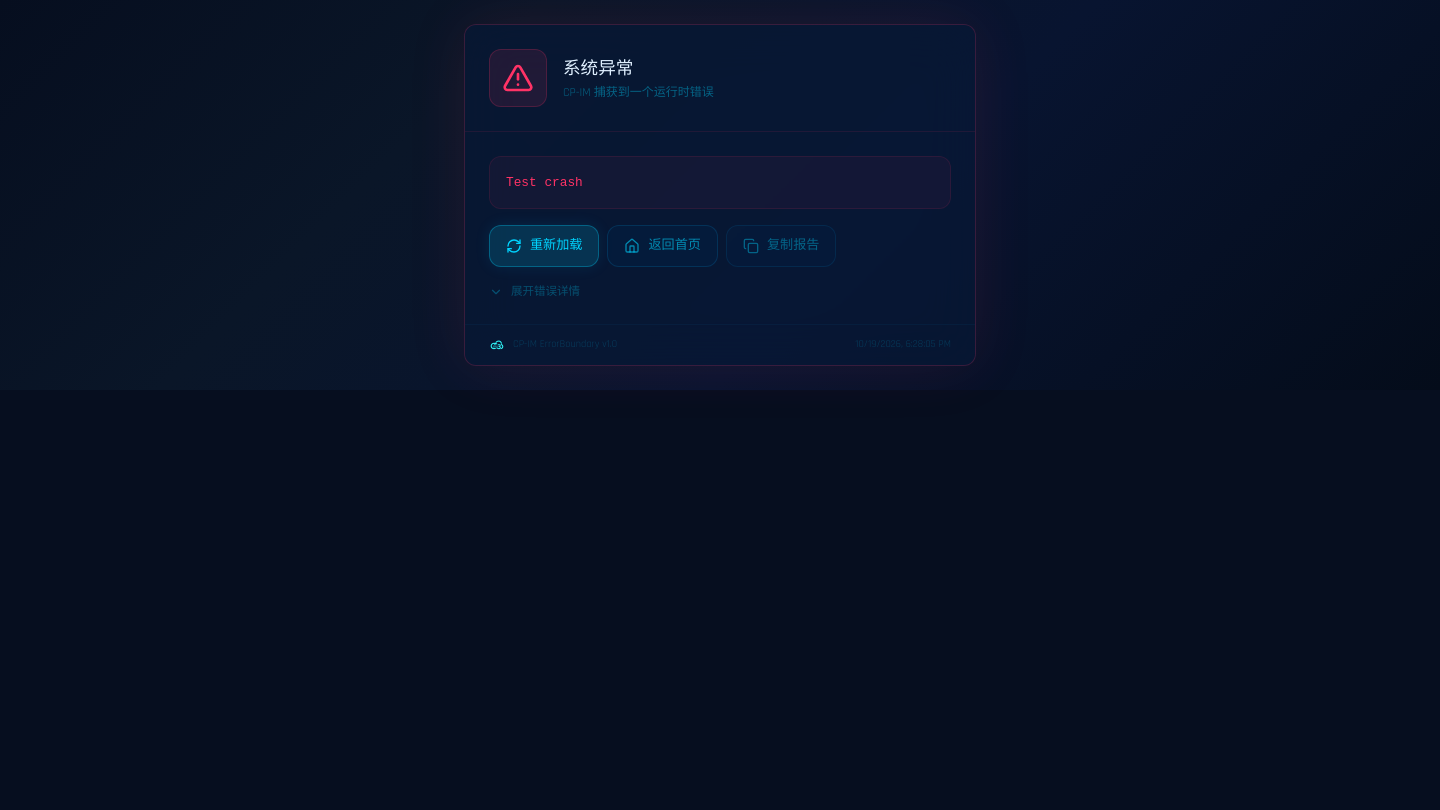
Test: ErrorBoundary › Page 级别 (默认) › 点击展开应显示堆栈信息
Click the button "展开错误详情" at (535, 292), box left=489, top=283, right=580, bottom=300
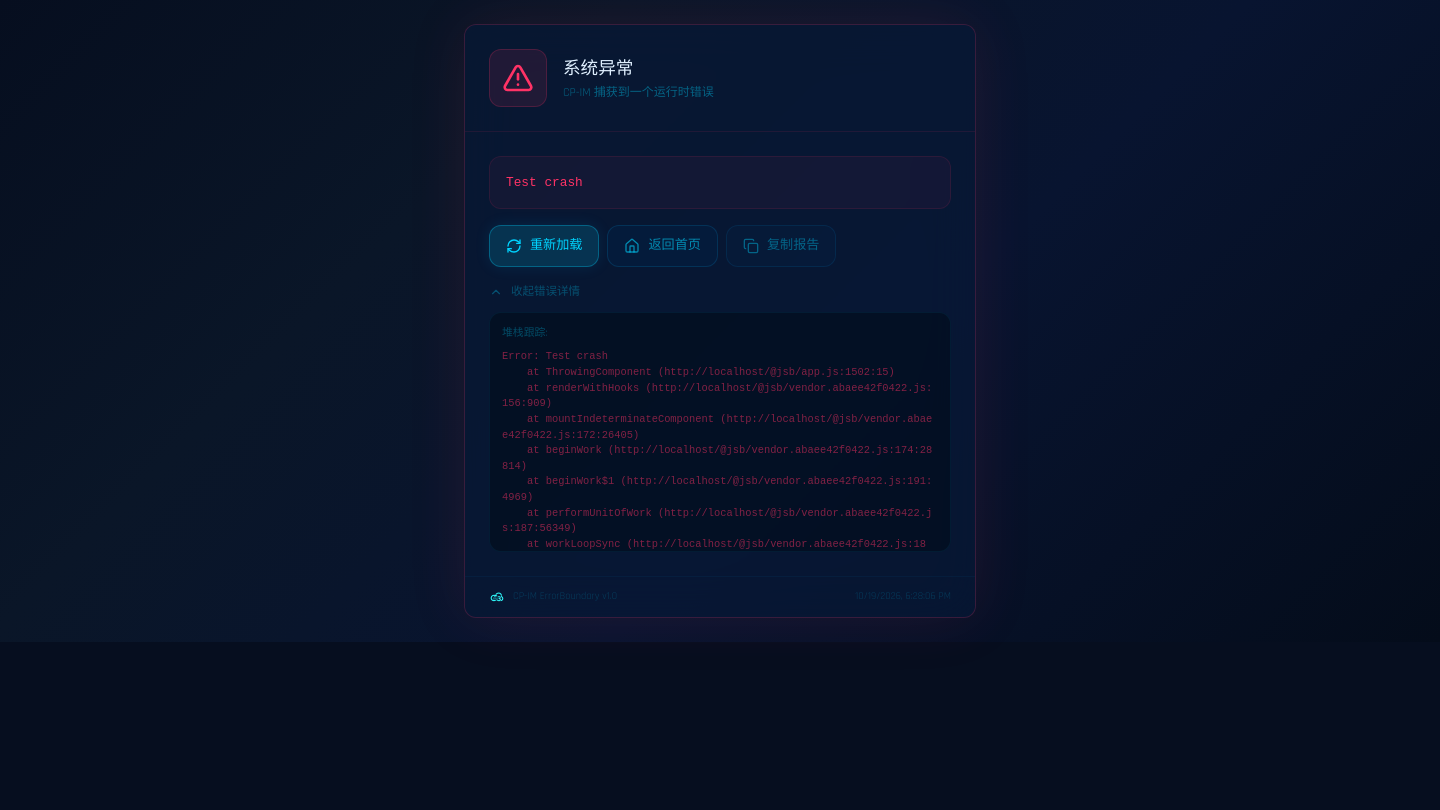
expect the text "堆栈跟踪:" is shown: met, box left=502, top=326, right=548, bottom=340
